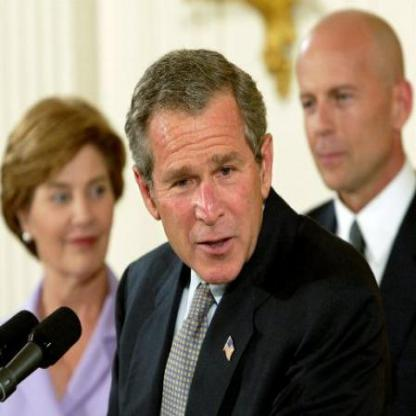face: (150, 51, 262, 288), (286, 14, 401, 192), (26, 105, 123, 280)
